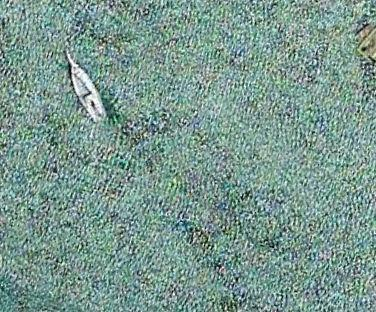Ships: (58, 50, 132, 135)
